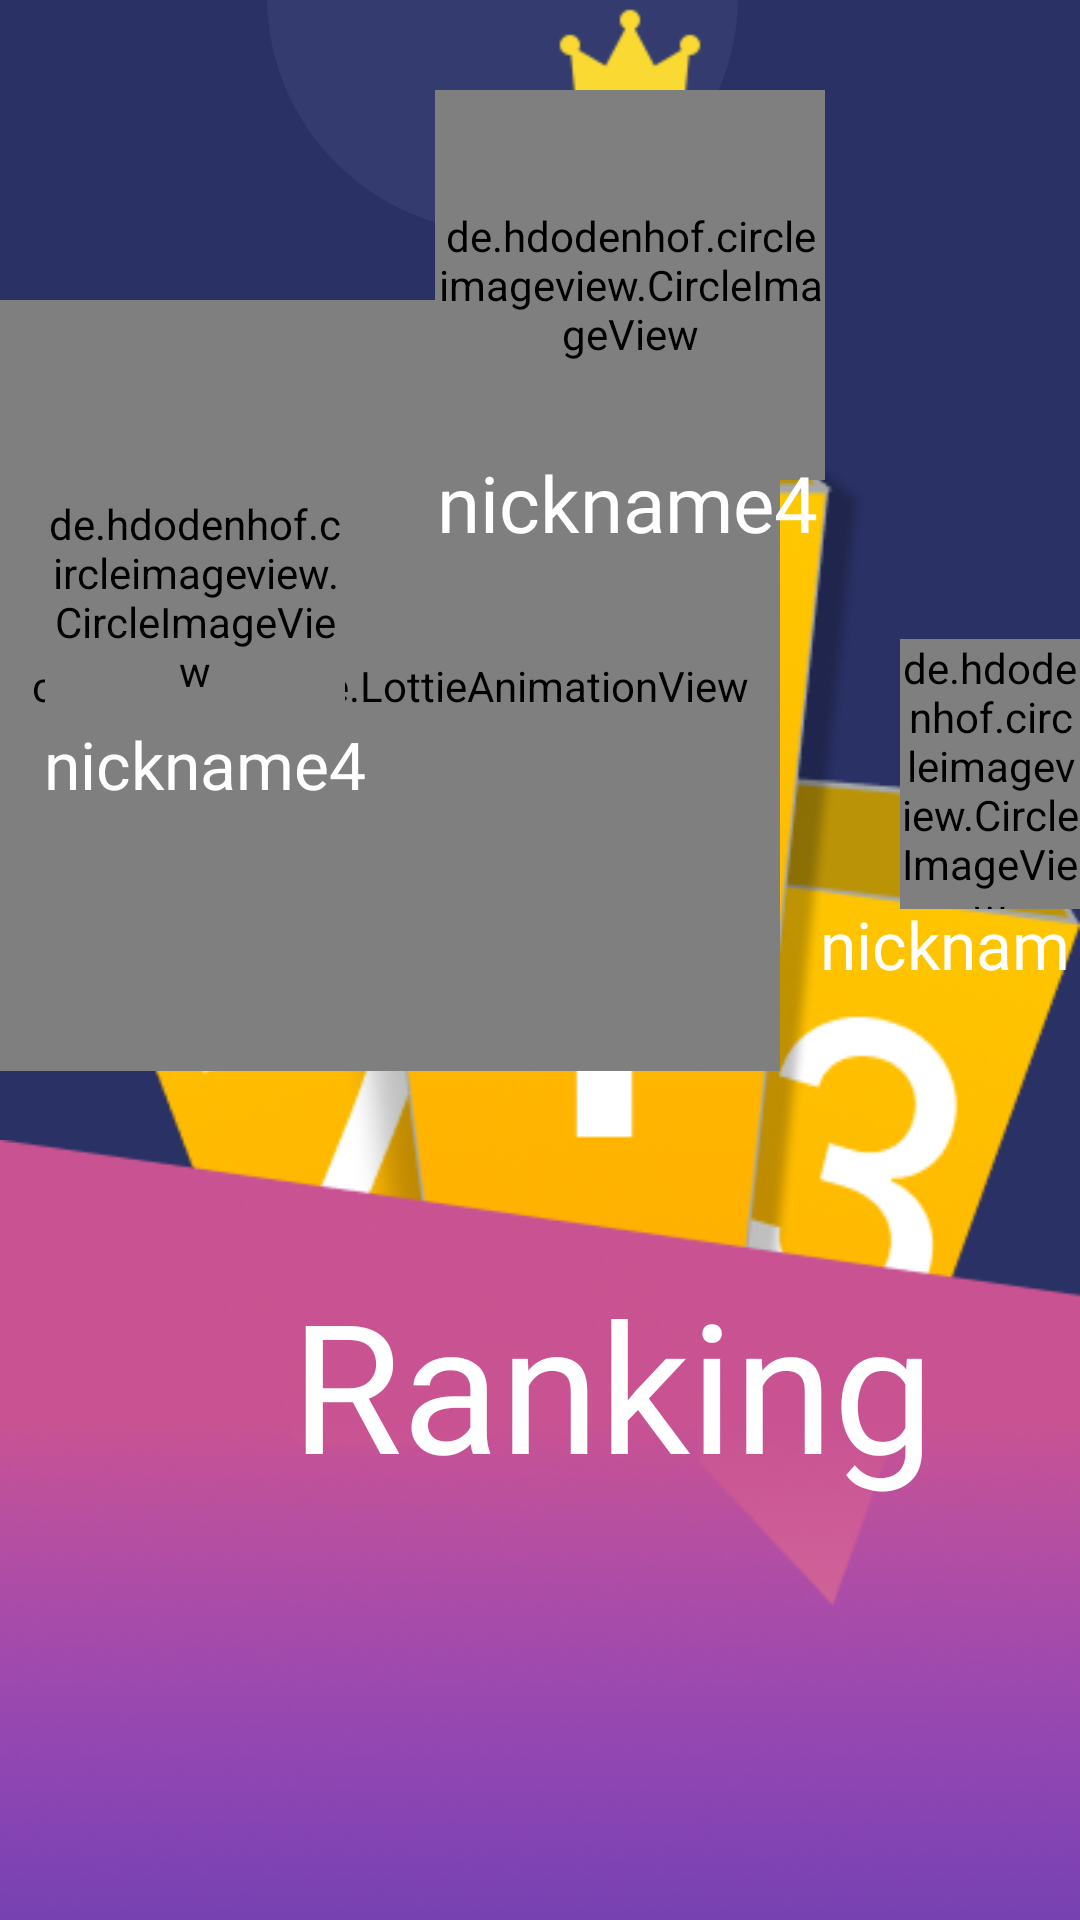

Screen size 1080 x 1920. Icon name, then its center in pixels as (x=x, y=y):
crown pic: (x=630, y=45)
